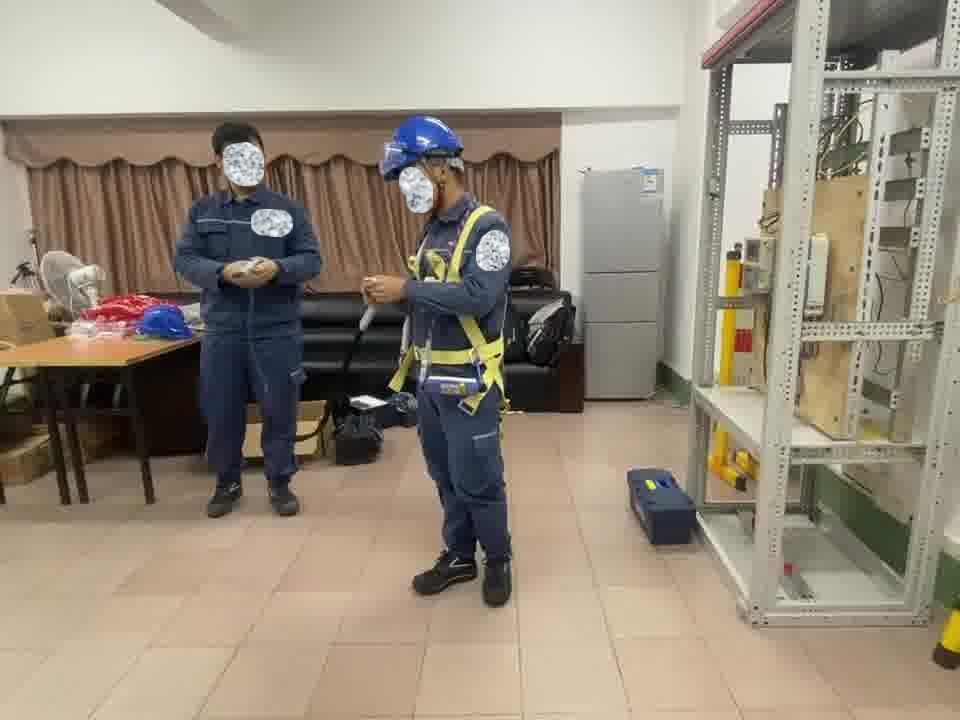halt: (382, 118, 471, 207)
inear: (424, 156, 454, 192)
unhalt: (213, 120, 272, 194)
